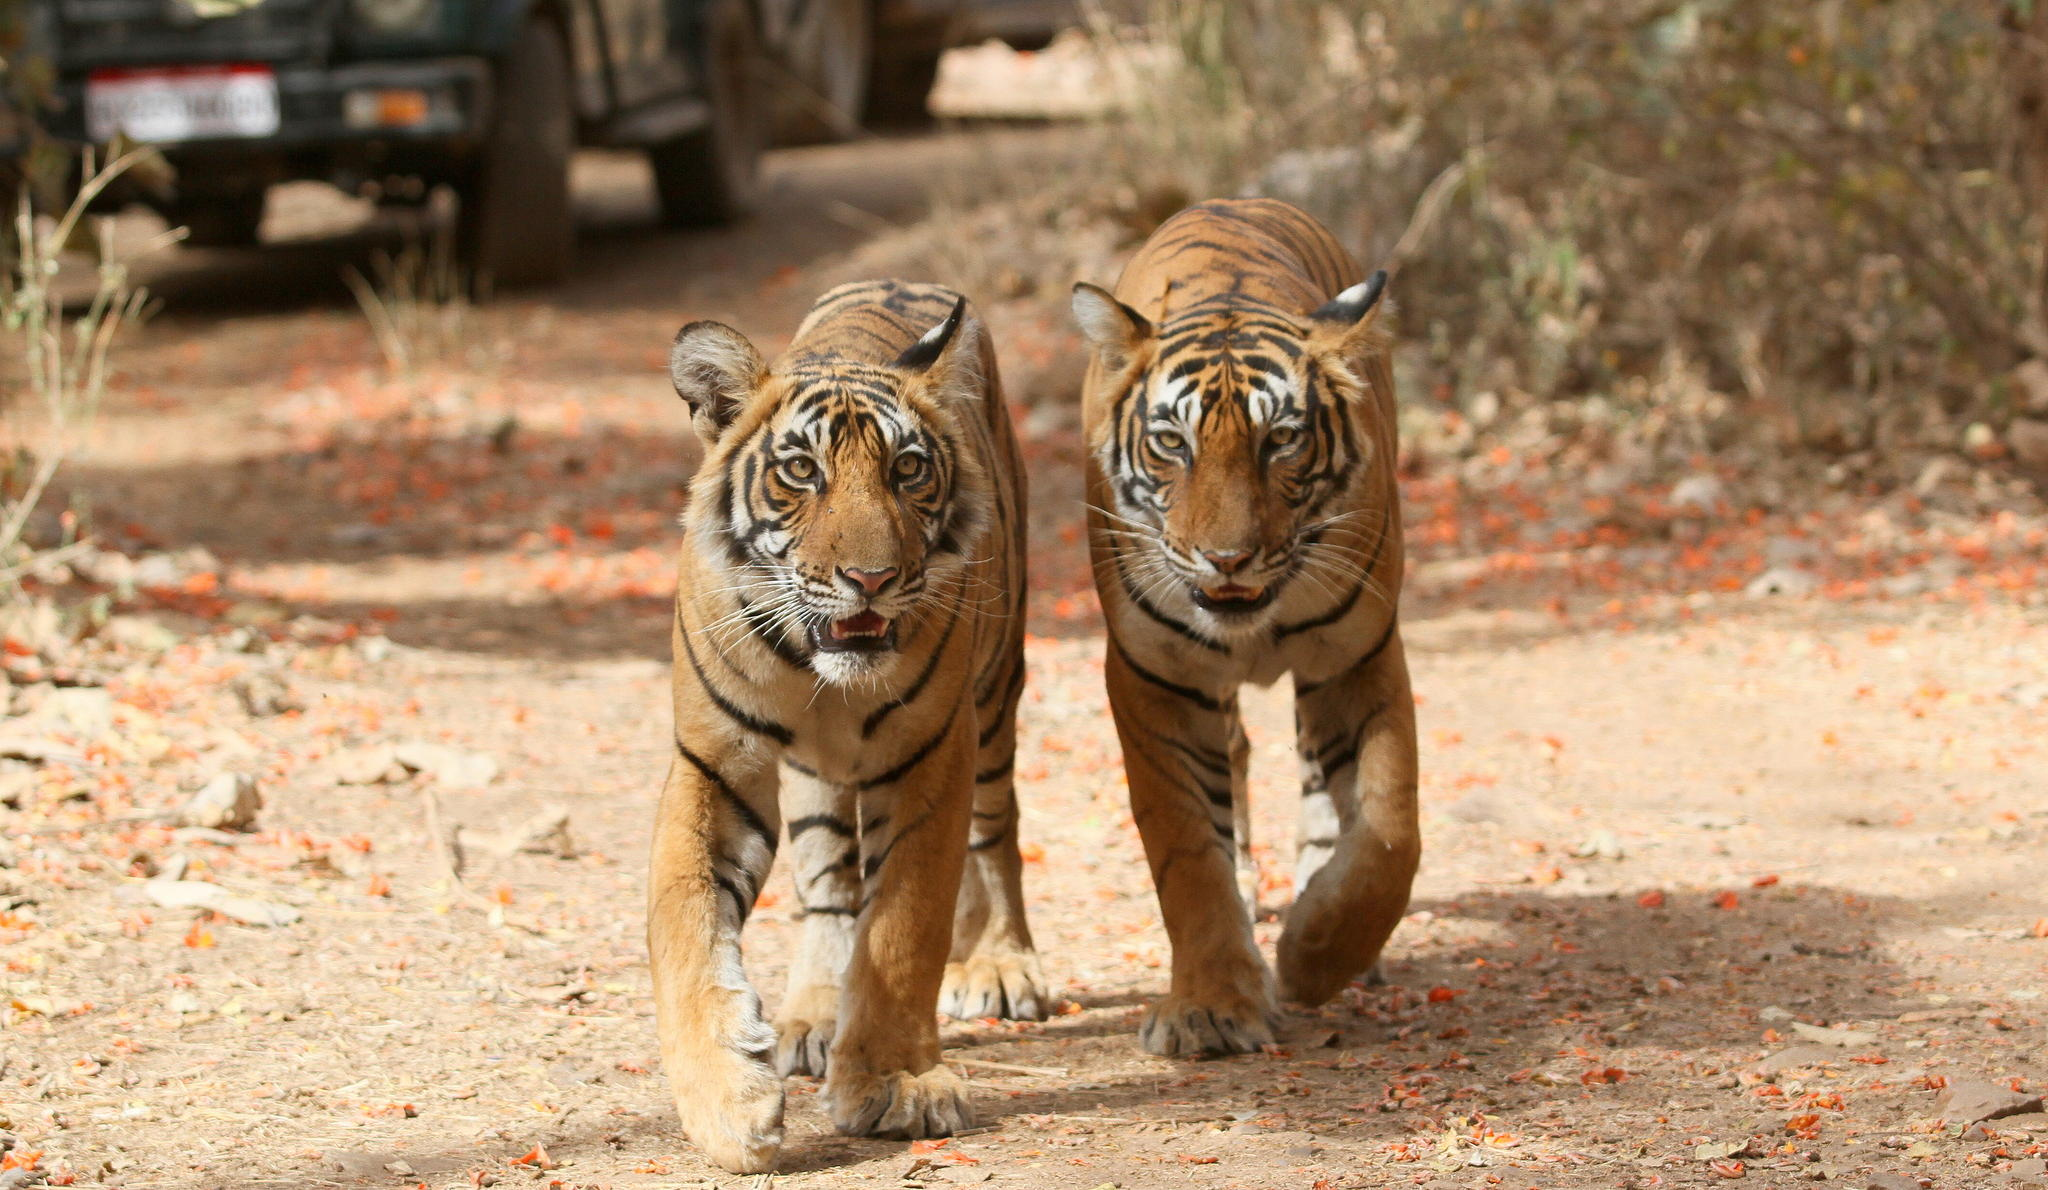tiger: (1034, 177, 1489, 1051), (652, 241, 1054, 1143)
